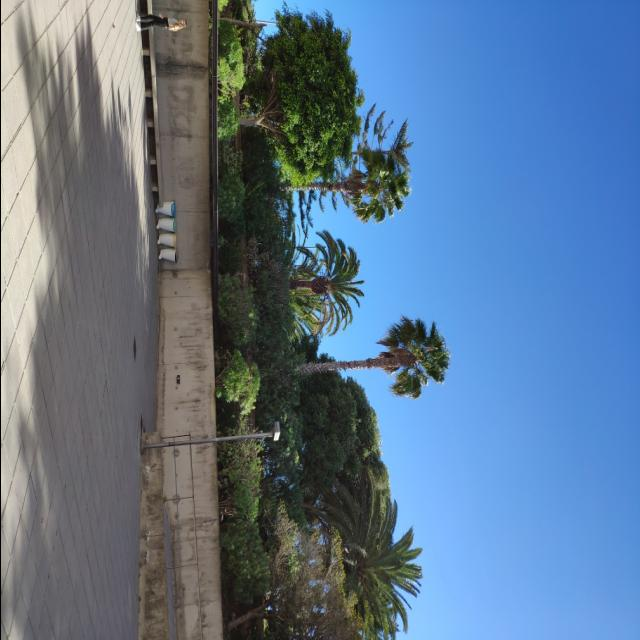Palm-Trees: (300, 493, 423, 638), (294, 327, 452, 400), (271, 146, 411, 227), (288, 236, 362, 334)
